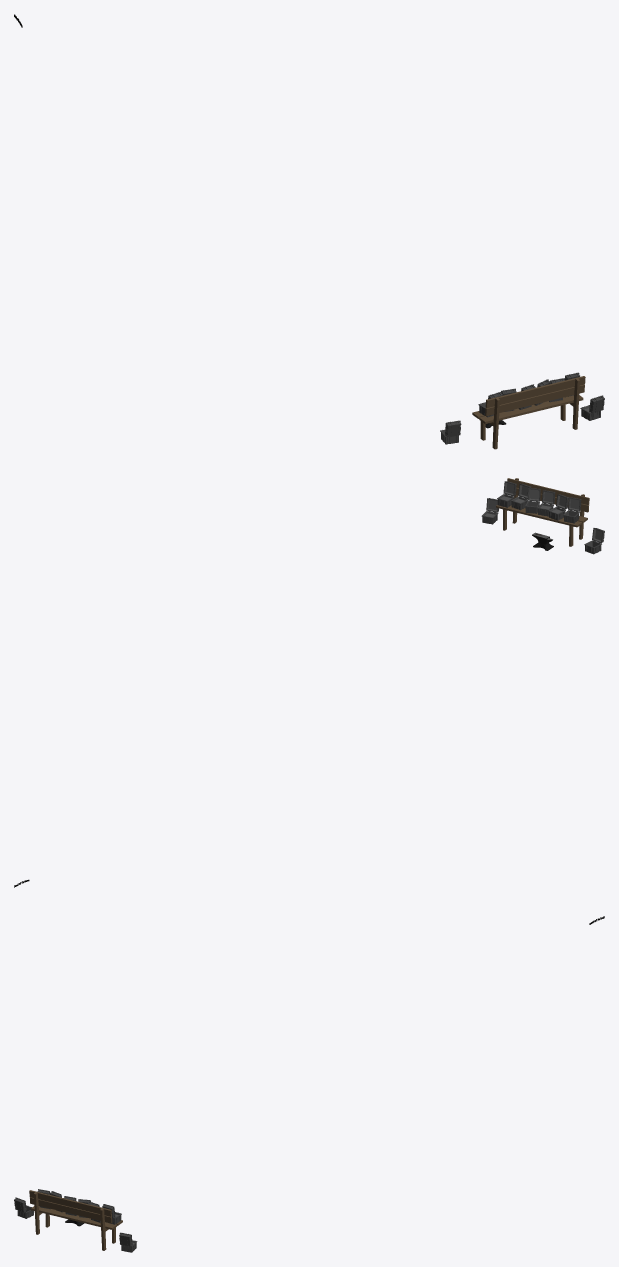
The model's file is Combined Mesh (root_ scene) 3.glb.
3 views of the same model, one above another, from view 1: azimuth 30°, elevation 25°; view 2: azimuth 150°, elevation 25°; view 3: azimuth 330°, elevation 25° (orthographic). The views are drawn at different scales.
Visible parts, largest first — view 1: Combined Mesh (root_ scene) 3; view 2: Combined Mesh (root_ scene) 3; view 3: Combined Mesh (root_ scene) 3.
Boxes of the visible parts, left/top/right/bottom form: Combined Mesh (root_ scene) 3: left=14, top=14, right=604, bottom=449; Combined Mesh (root_ scene) 3: left=14, top=478, right=604, bottom=887; Combined Mesh (root_ scene) 3: left=14, top=916, right=604, bottom=1252.
Size of the model in its own units: 3.61 by 1.66 by 24.62.
1 material, 1 textured.
